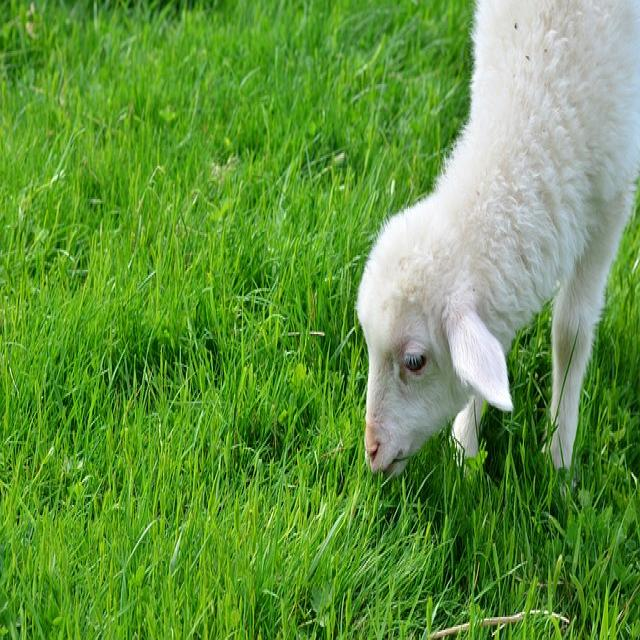sheep: (355, 0, 639, 490)
